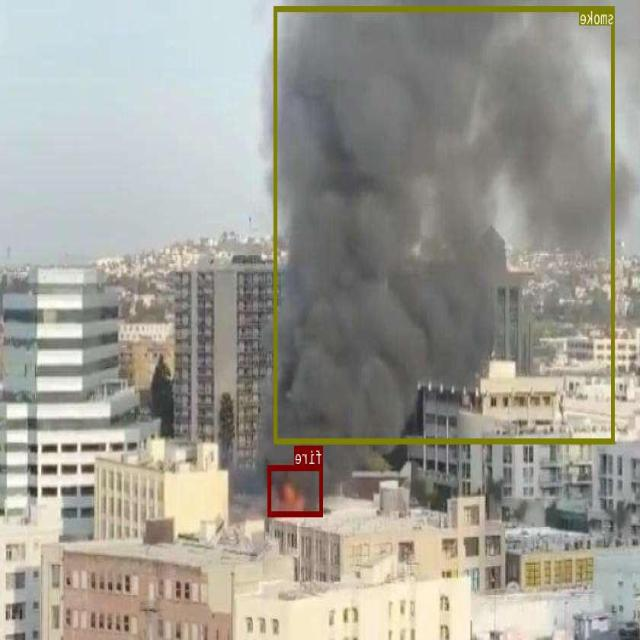fire: (269, 465, 324, 516)
smoke: (274, 6, 615, 443)
